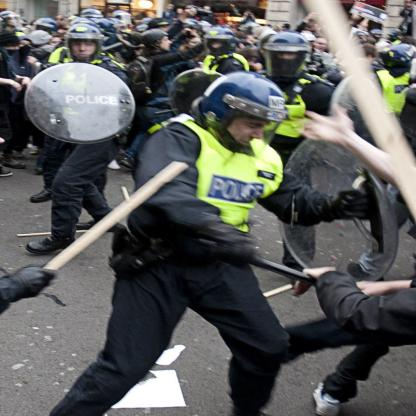Helmet: (198, 69, 288, 150), (262, 29, 314, 74), (62, 23, 105, 65), (378, 42, 416, 66), (139, 29, 169, 52), (200, 25, 235, 44), (96, 18, 121, 38), (108, 8, 130, 29), (30, 17, 60, 32), (68, 16, 100, 29), (0, 9, 20, 27), (183, 18, 207, 31), (82, 8, 104, 19), (369, 28, 384, 39), (19, 17, 28, 27), (65, 14, 75, 23)
